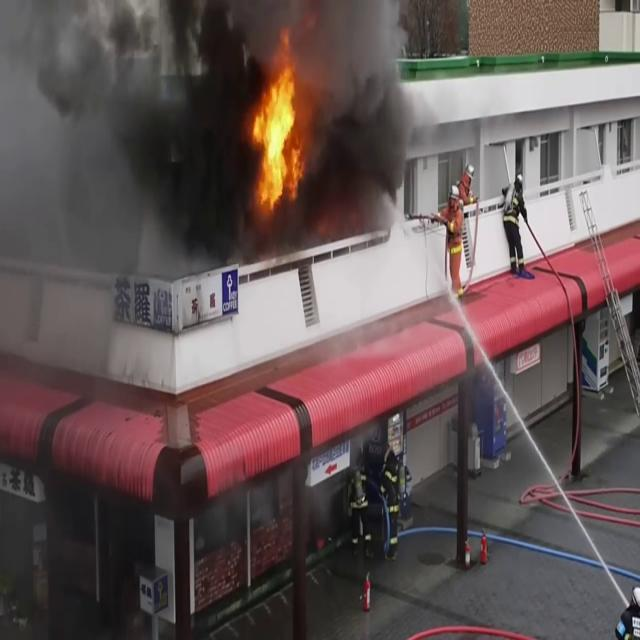Fire: (244, 36, 310, 218)
Smoke: (0, 0, 231, 388), (298, 0, 427, 240)
